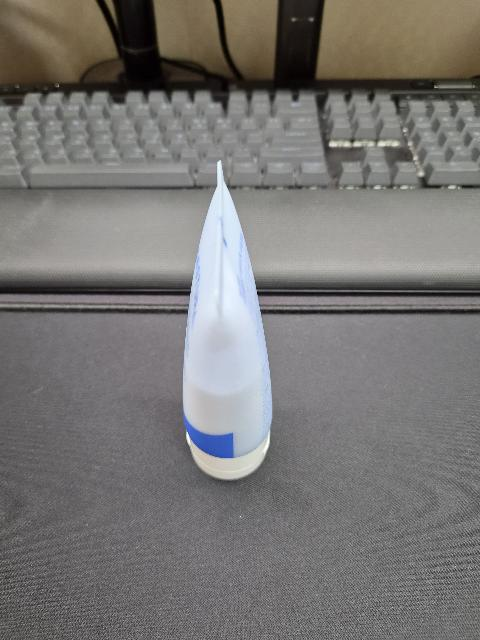handcream: (183, 160, 272, 479)
